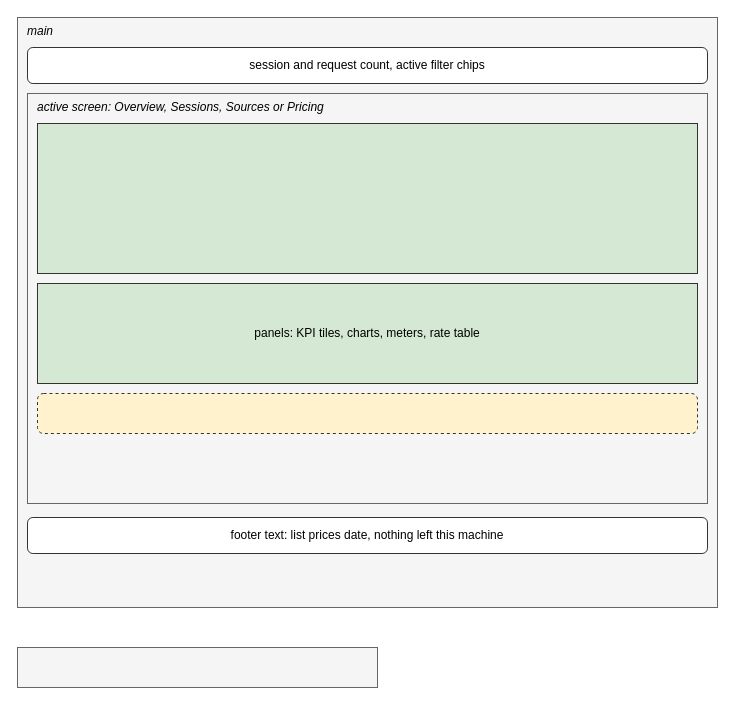
Some shapes in this 735 by 705 pixel diagram are drawn without their labels. The shapes that lost their labels are listed below. From the top down, each one's box as (x1, y1, x2, y2) in pixels, then its label:
(36, 122, 698, 274): sessions table: ten sortable columns, rows open the drawer
(36, 392, 698, 434): phone width: cards instead of the table
(16, 646, 378, 688): Legend: the shapes of the region main
